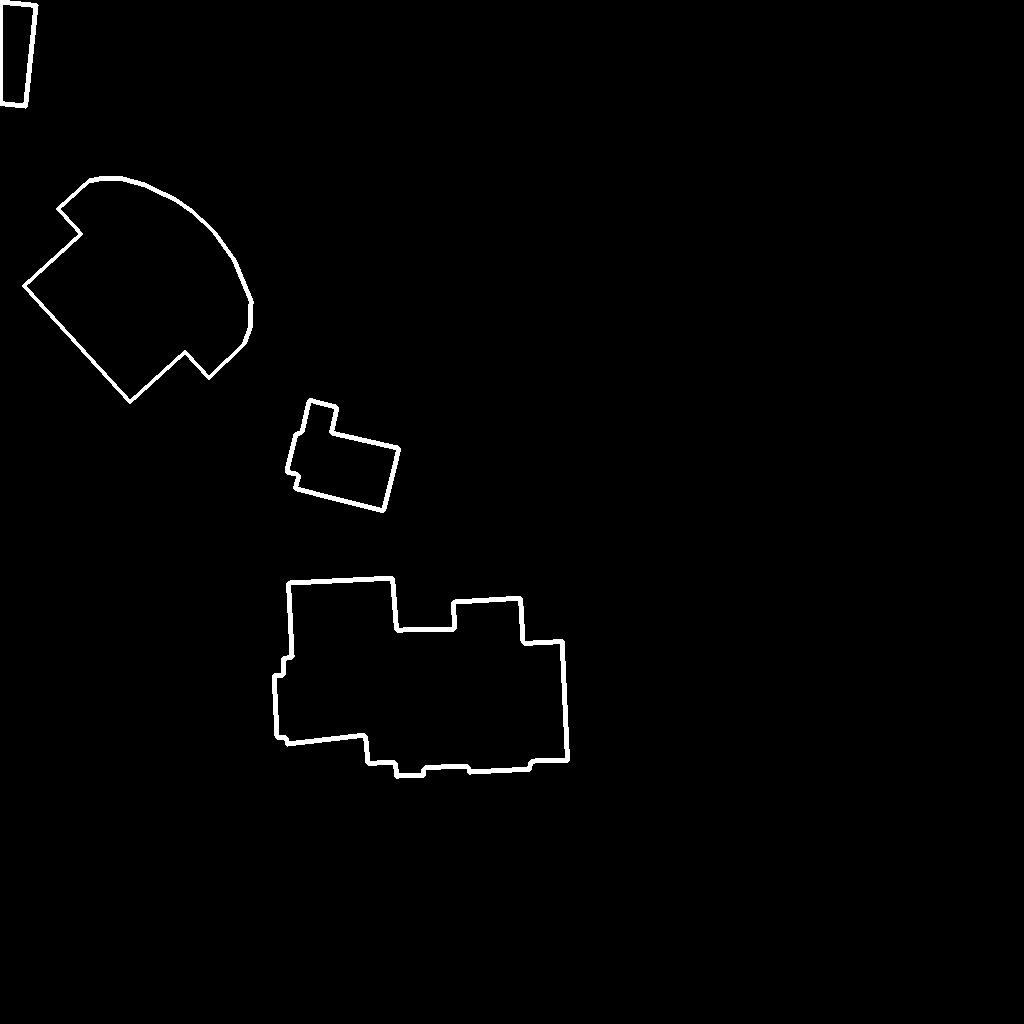building: (274, 578, 569, 777), (24, 178, 252, 403), (287, 400, 400, 512), (0, 2, 37, 107)
